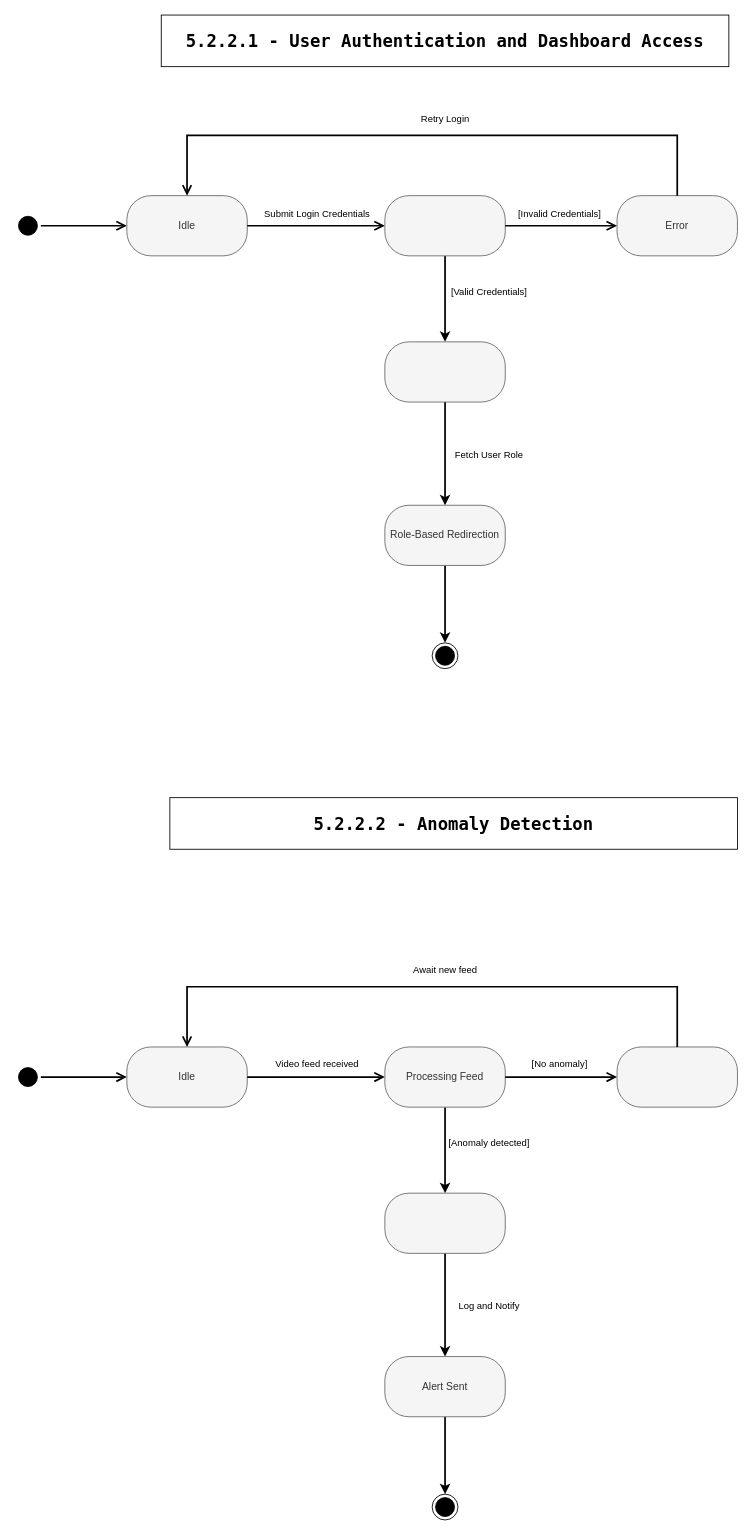
Some shapes in this 753 by 1535 pixel diagram are drawn without their labels. Here are the shapes that lost their labels. From the top down, the centre of each, then its label:
At point 444,225: "Authenticating".
At point 444,371: "Authenticated".
At point 676,1076: "No Anomaly".
At point 444,1222: "Anomaly Detected".
